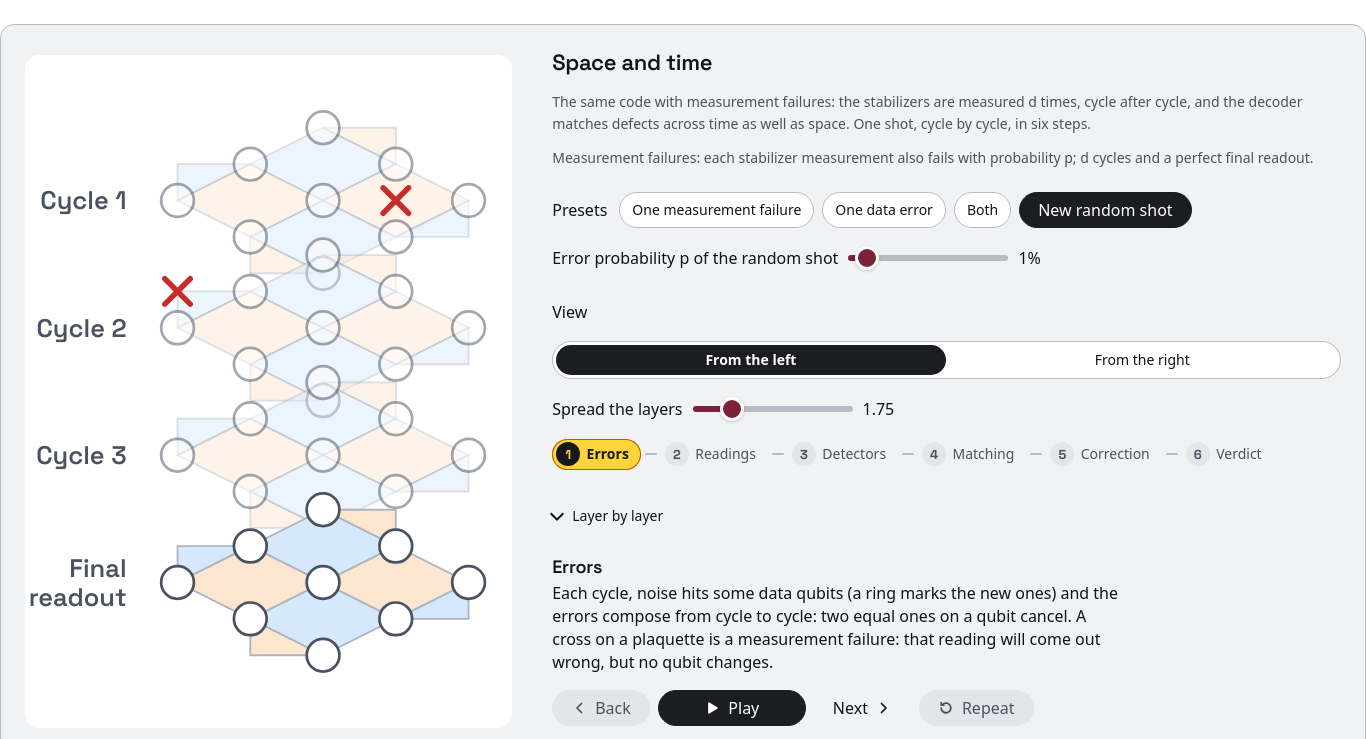
Test case: test_intent_viewer_hooks_are_stable › every hook of D8 exists in the rendered DOM on the last step of the preset with both mechanisms
Later steps or results of the test are not shown.
Click the button "Both".
click(983, 210)  # box [954, 192, 1011, 228]
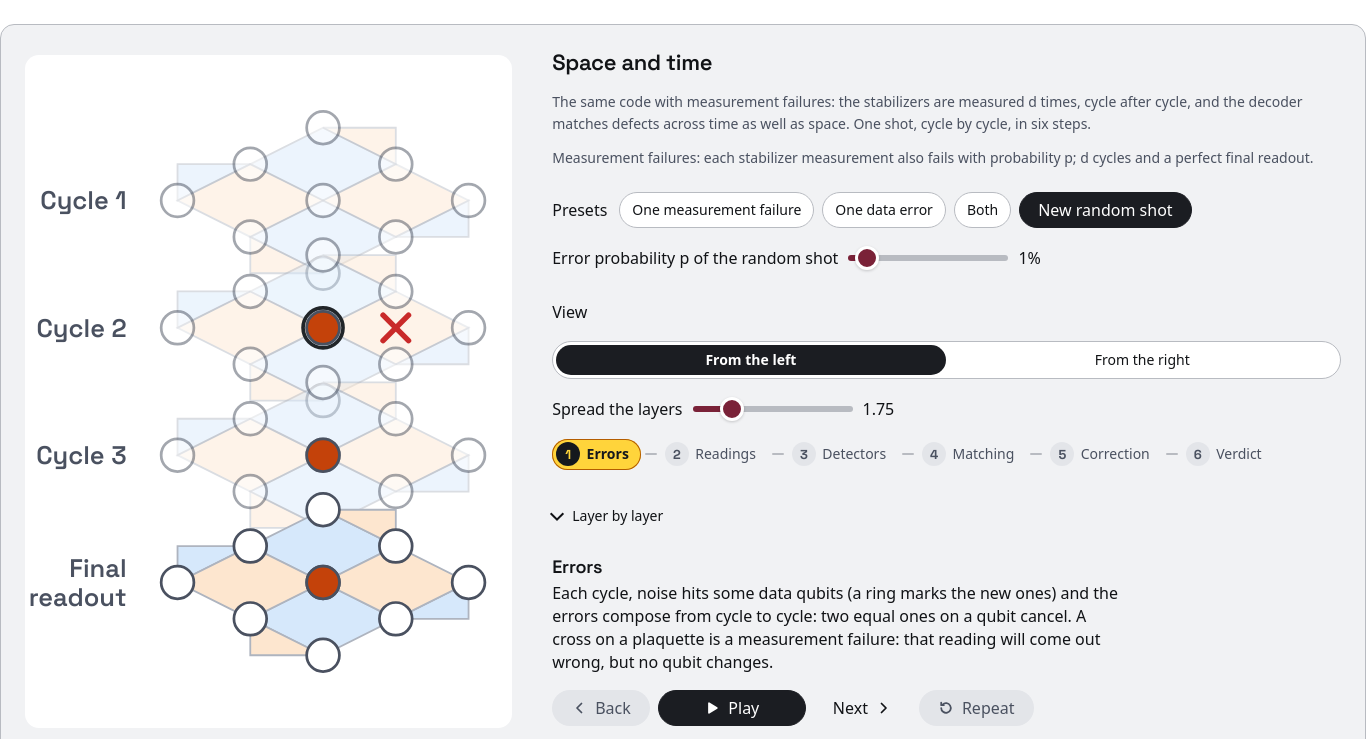
Click the button "Next".
click(862, 708)  # box [814, 690, 911, 726]
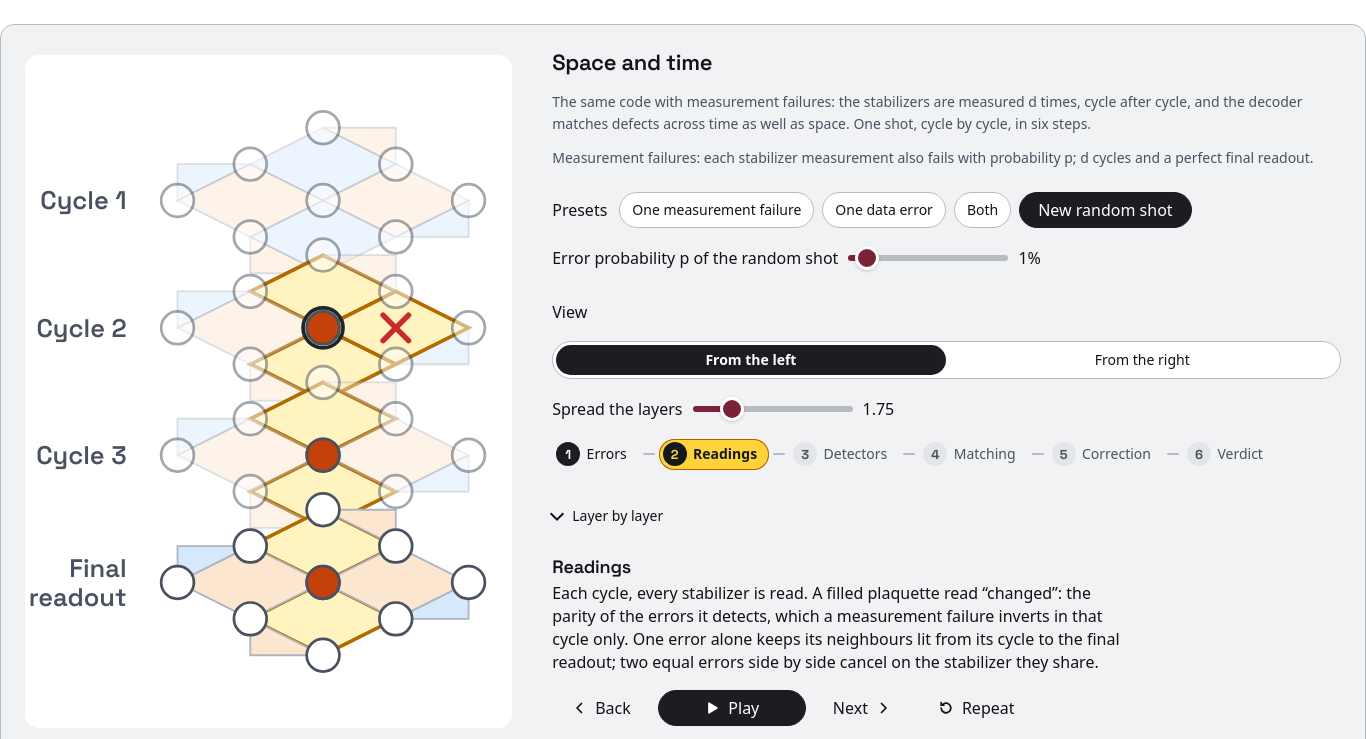
Click the button "Next".
click(862, 708)  # box [814, 690, 911, 726]
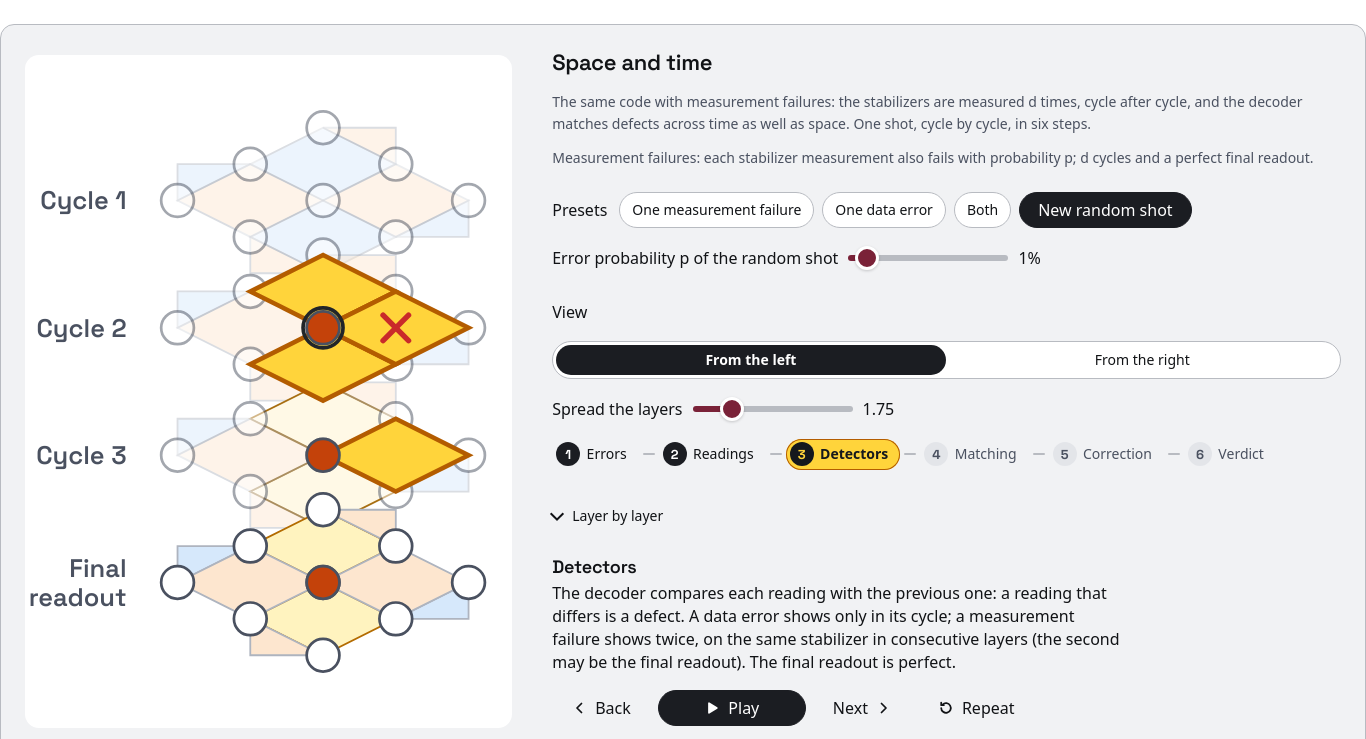
Click the button "Next".
click(862, 708)  # box [814, 690, 911, 726]
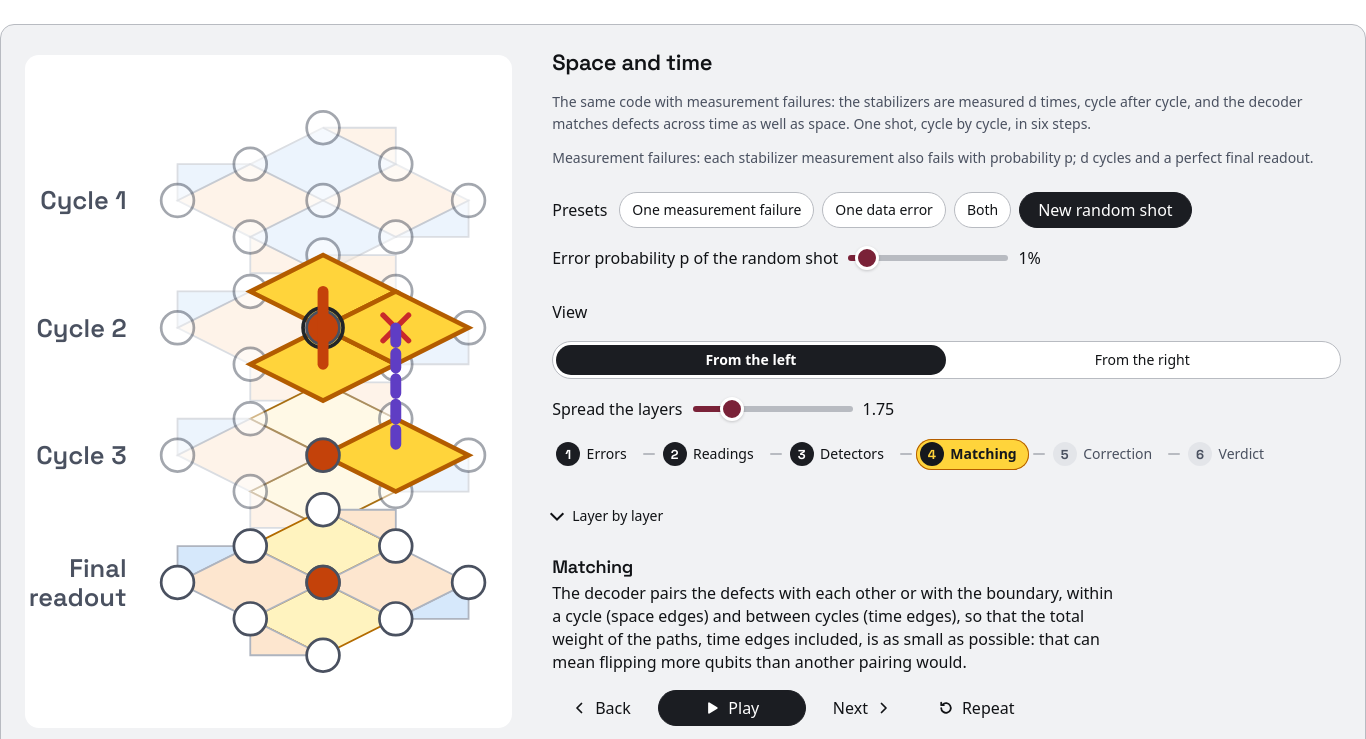
Click the button "Next".
click(862, 708)  # box [814, 690, 911, 726]
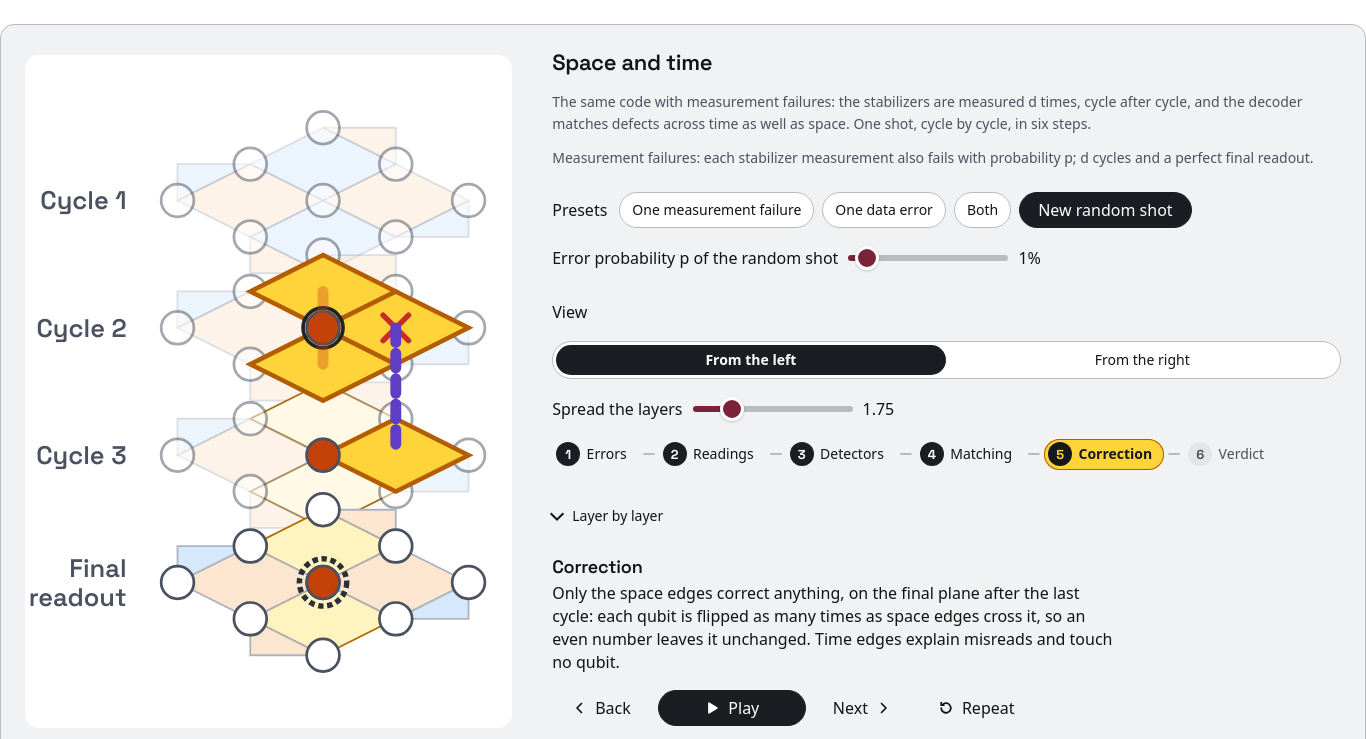
Click the button "Next".
click(862, 708)  # box [814, 690, 911, 726]
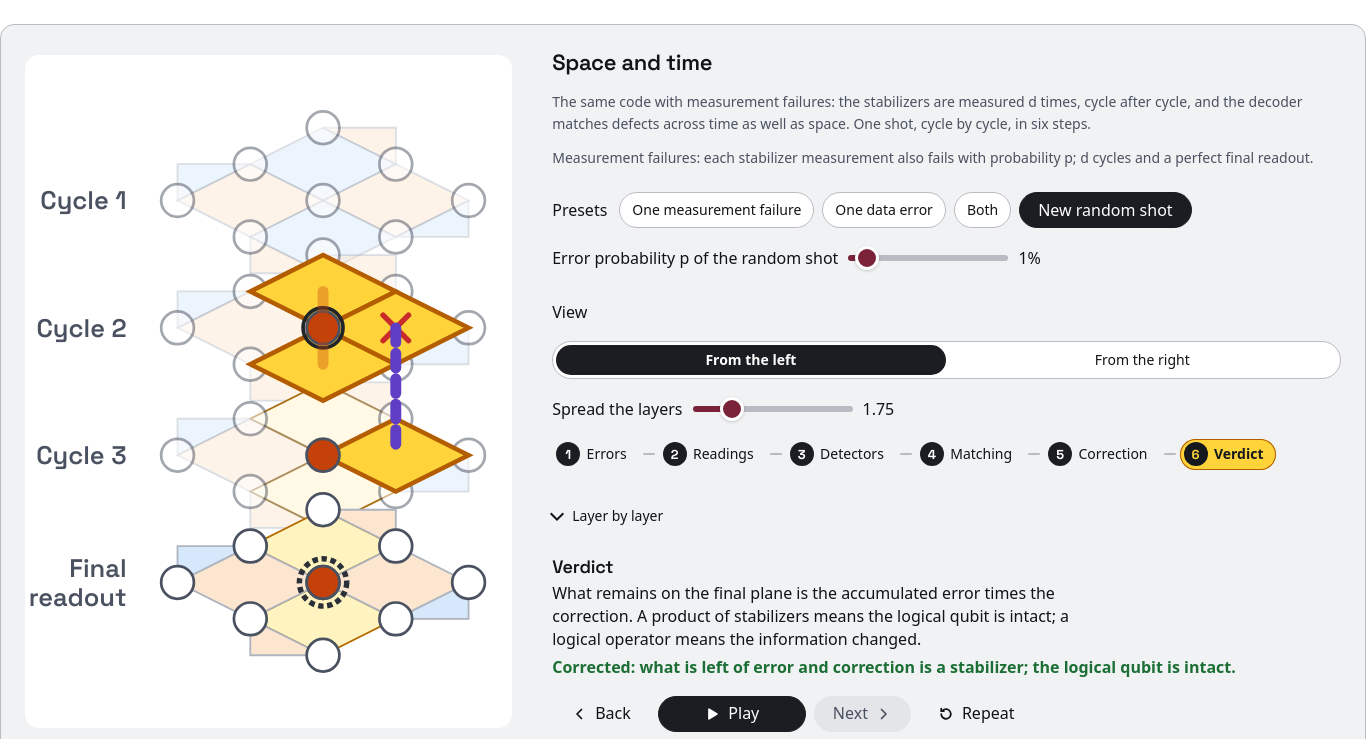
Check: the icon "Cycle 1 Cycle 2 Cycle 3 Finalreadout" is shown, box [25, 55, 512, 728]
Check: the text with class "spacetime__verdict" is shown, box [552, 655, 1341, 680]
